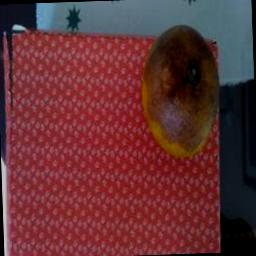Orange Rotten: (130, 4, 232, 179)
